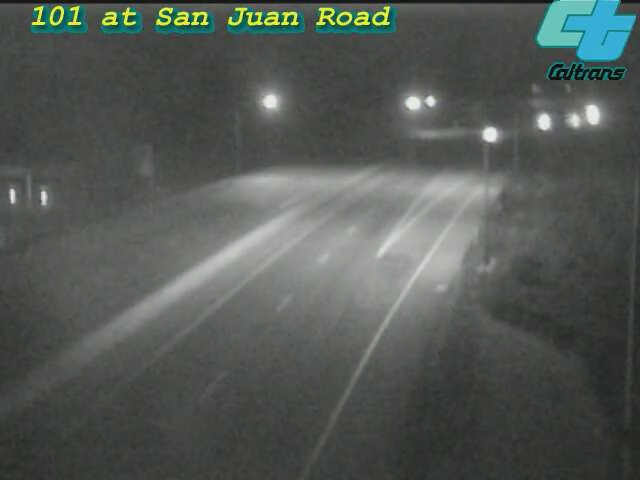vehicle: (549, 97, 599, 147), (464, 110, 514, 160), (521, 96, 571, 146), (567, 90, 617, 140)
